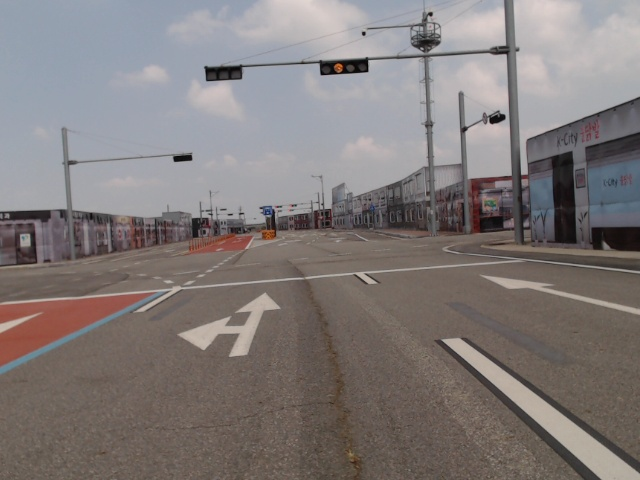orange_4: (318, 57, 369, 75)
